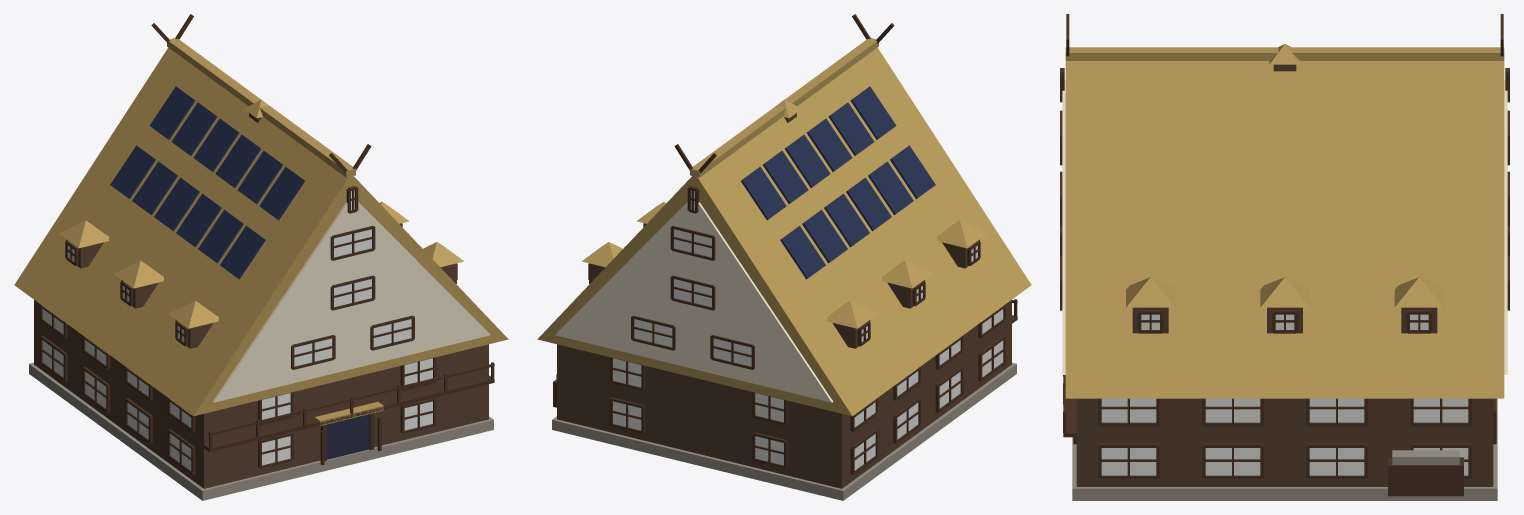
The model's file is house-2x2-5f-gassho-a-solar.glb.
The picture shows the model from 3 angles, left to right: view 1: azimuth 30°, elevation 25°; view 2: azimuth 150°, elevation 25°; view 3: azimuth 270°, elevation 25°; orthographic projection. The views are drawn at different scales.
Parts seen in each view (by area): view 1: house-2x2-5f-gassho-a-solar; view 2: house-2x2-5f-gassho-a-solar; view 3: house-2x2-5f-gassho-a-solar.
Part boxes in pixels (bbox=[...]): house-2x2-5f-gassho-a-solar: bbox=[14, 14, 508, 500]; house-2x2-5f-gassho-a-solar: bbox=[537, 14, 1031, 500]; house-2x2-5f-gassho-a-solar: bbox=[1060, 14, 1509, 500].
Size of the model in its own units: 2 by 1.92 by 2.01.
Materials: 1 (1 with a texture image).
